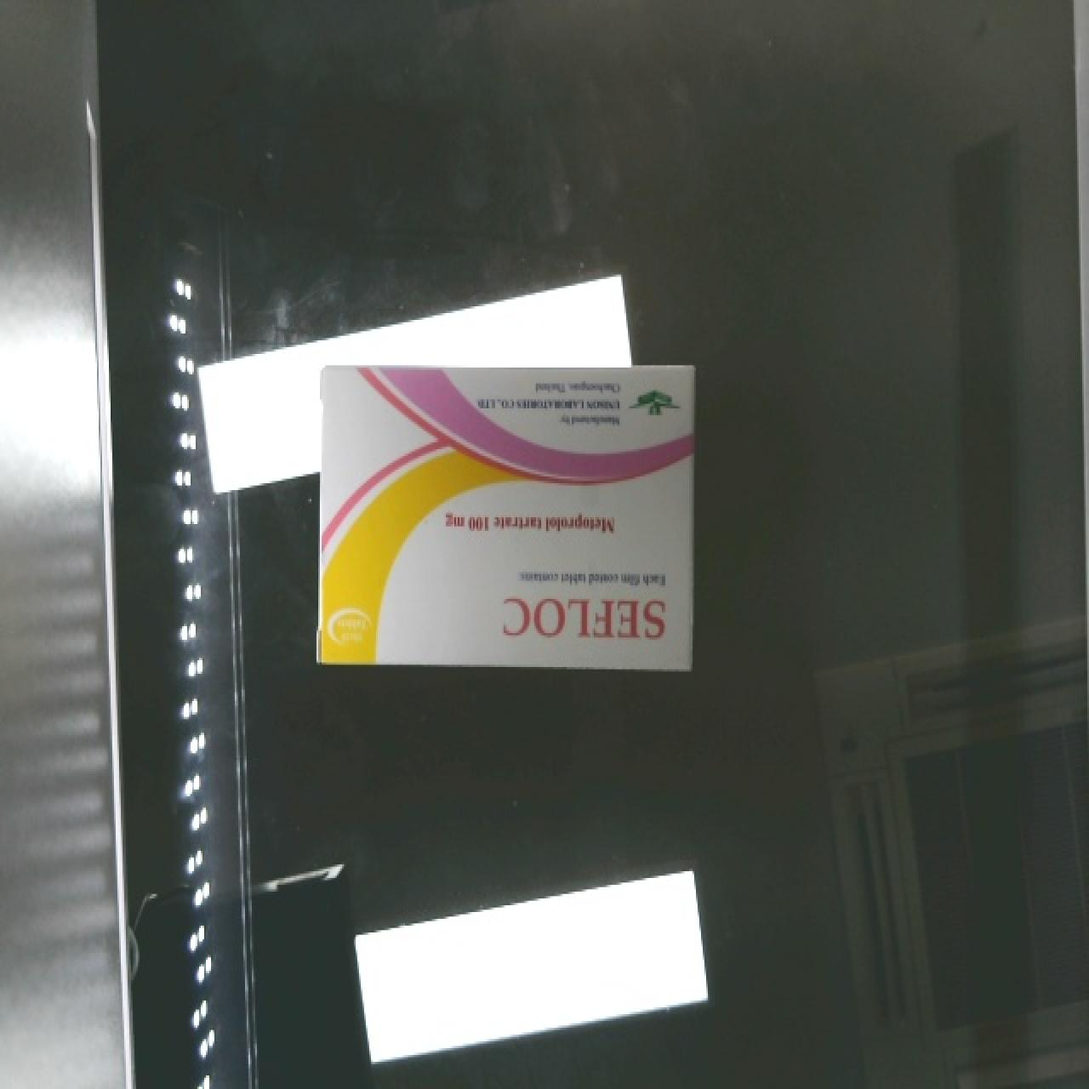medicine_label_obb: (488, 584, 685, 666)
